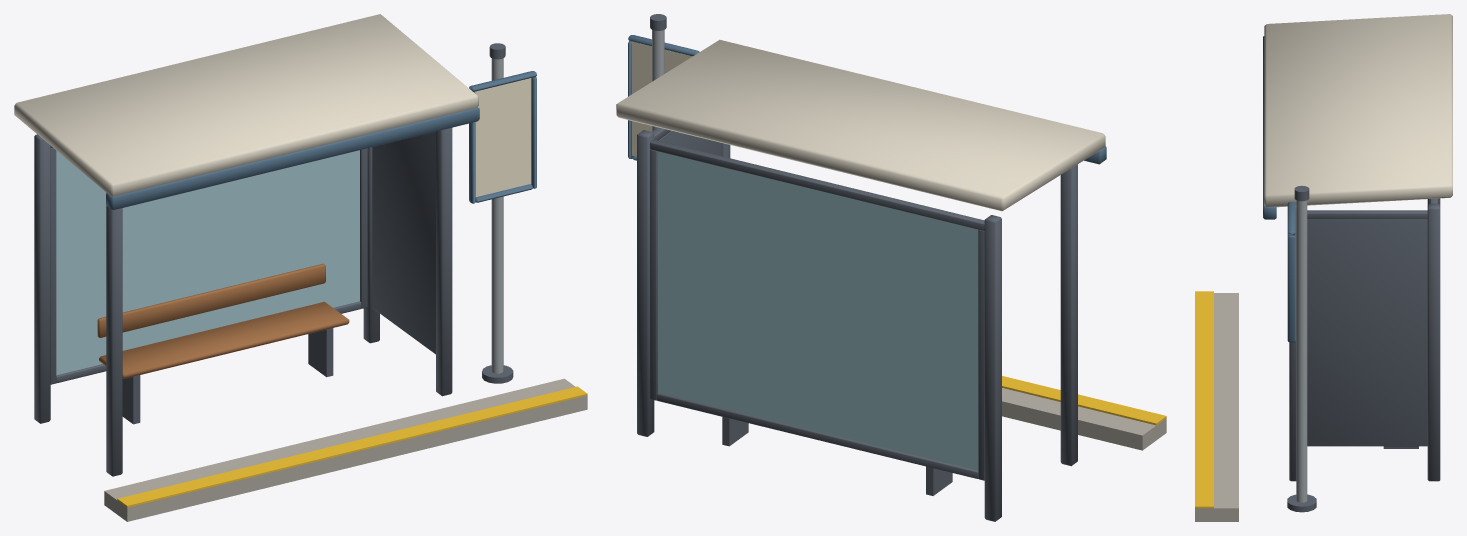
The model's file is bus_stop.glb.
The picture shows the model from 3 angles, left to right: view 1: azimuth 30°, elevation 25°; view 2: azimuth 150°, elevation 25°; view 3: azimuth 270°, elevation 25°; orthographic projection. The views are drawn at different scales.
Visible parts, largest first — view 1: bus_stop; view 2: bus_stop; view 3: bus_stop.
Boxes of the visible parts, x1,y1,x2,y2 form: bus_stop: (14, 14, 587, 521); bus_stop: (616, 14, 1166, 521); bus_stop: (1195, 14, 1452, 521).
Size of the model in its own units: 4.05 by 2.78 by 2.05.
